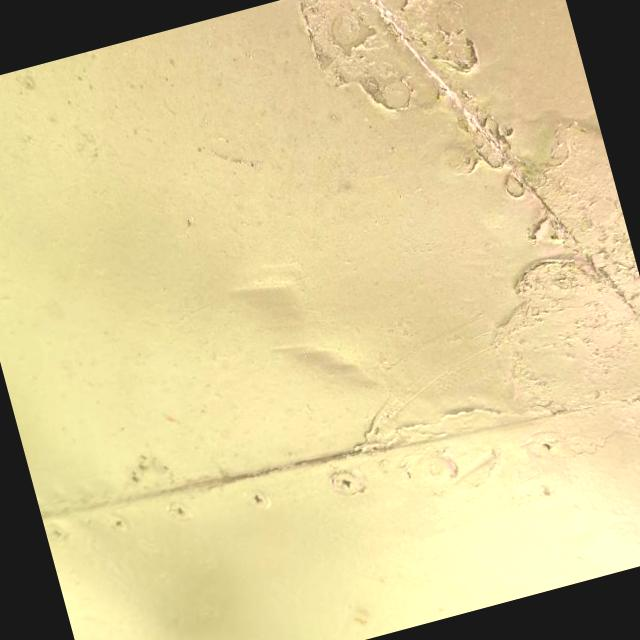dent: (186, 230, 410, 440)
